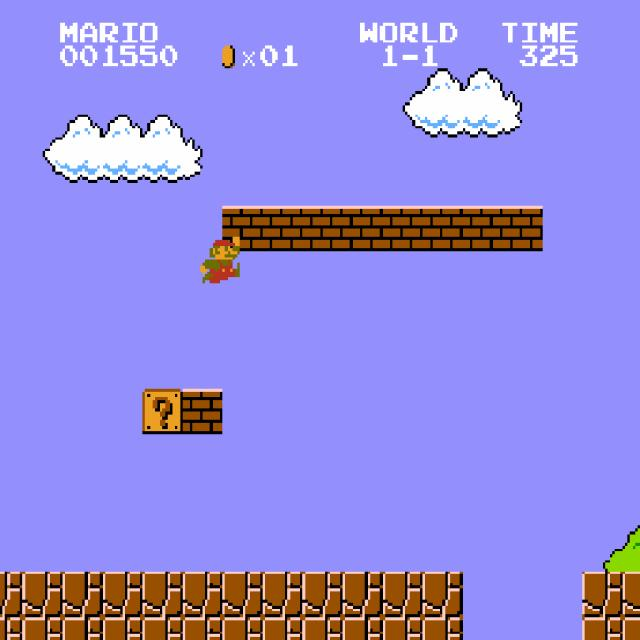brick_block: (182, 389, 223, 434), (222, 206, 263, 251), (262, 206, 303, 251), (302, 206, 343, 251), (342, 206, 383, 251), (382, 206, 423, 251), (422, 206, 463, 251), (462, 206, 503, 251), (502, 206, 543, 251)
little_mario: (197, 234, 240, 283)
mystery_block: (142, 389, 183, 434)
undestructible_block: (22, 572, 63, 617), (62, 572, 103, 617), (102, 572, 143, 617), (142, 572, 183, 617), (182, 572, 223, 617), (222, 572, 263, 617), (262, 572, 303, 617), (302, 572, 343, 617), (342, 572, 383, 617), (382, 572, 423, 617), (422, 572, 463, 617), (582, 572, 623, 617), (0, 572, 22, 617), (22, 617, 63, 640), (62, 617, 103, 640), (102, 617, 143, 640), (142, 617, 183, 640), (182, 617, 223, 640), (222, 617, 263, 640), (262, 617, 303, 640), (302, 617, 343, 640), (342, 617, 383, 640), (382, 617, 423, 640), (422, 617, 463, 640), (582, 617, 623, 640), (622, 571, 640, 617), (0, 617, 22, 640), (622, 617, 640, 639)
